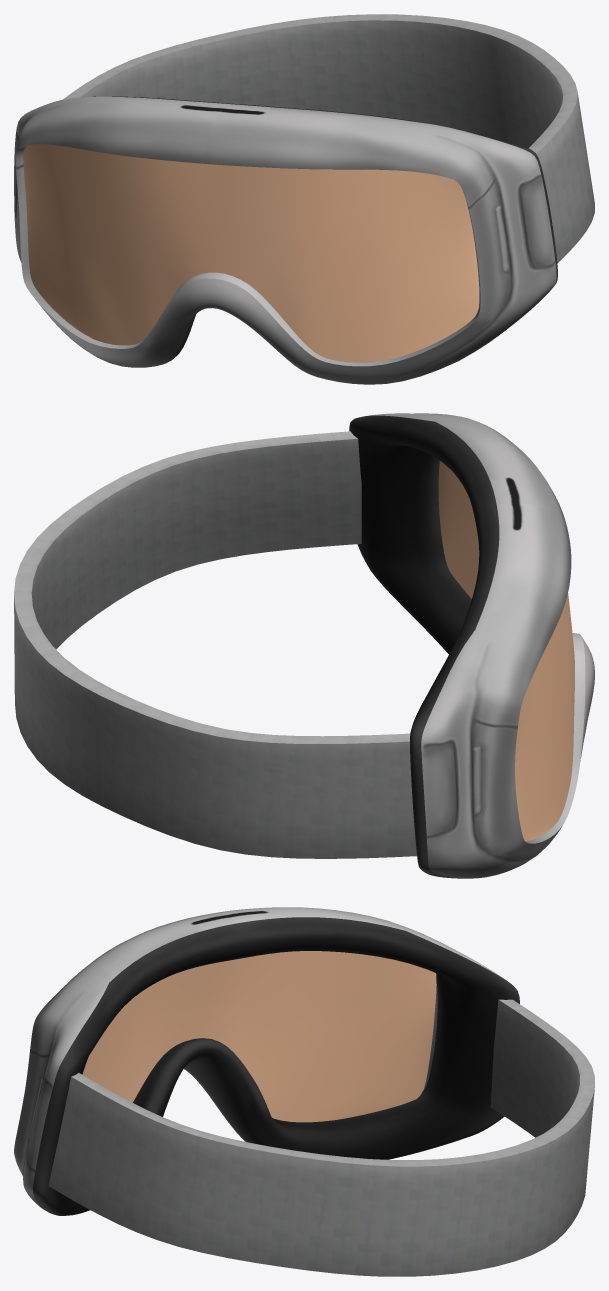
File: ski.glb
3 renders of one model, top to bottom at view 1: azimuth 30°, elevation 25°; view 2: azimuth 150°, elevation 25°; view 3: azimuth 270°, elevation 25°, orthographic. The views are drawn at different scales.
Parts seen in each view (by area): view 1: 10530_snov_skiing_goggles_v2_L3; view 2: 10530_snov_skiing_goggles_v2_L3; view 3: 10530_snov_skiing_goggles_v2_L3.
Boxes of the visible parts, <box> form: 10530_snov_skiing_goggles_v2_L3: <box>14,14,594,384</box>; 10530_snov_skiing_goggles_v2_L3: <box>14,413,594,878</box>; 10530_snov_skiing_goggles_v2_L3: <box>14,907,594,1276</box>.
Size of the model in its own units: 29.99 by 16.76 by 31.38.
Materials: 2 (1 with a texture image).
